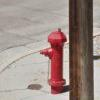Hydrant: (35, 29, 69, 93)
